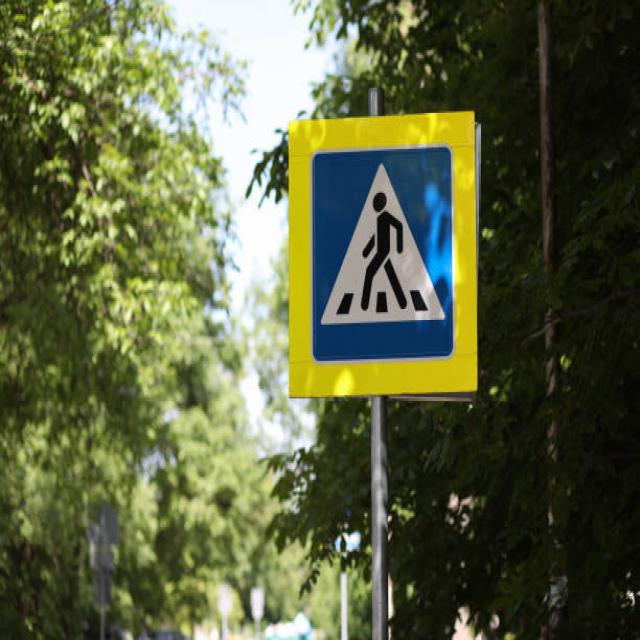crosswalk: (307, 143, 454, 369)
